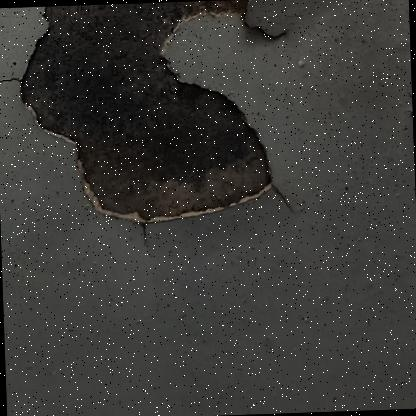Crack: (0, 0, 383, 288)
